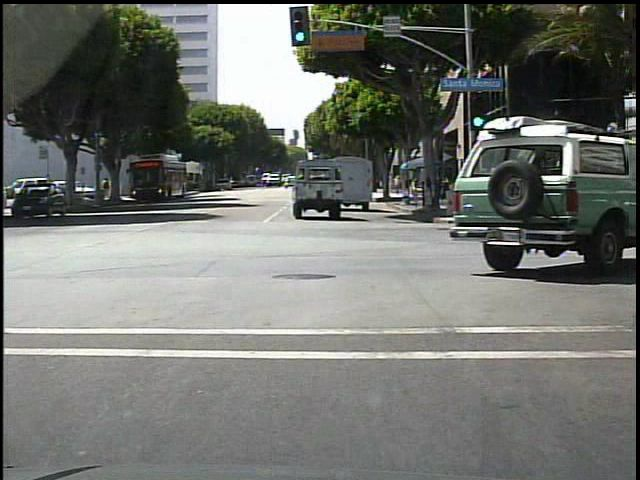person: (551, 158, 574, 228), (590, 164, 610, 224), (576, 167, 595, 223), (526, 155, 544, 214), (482, 164, 500, 219), (511, 161, 529, 215), (518, 165, 534, 218), (475, 164, 487, 216), (109, 175, 119, 201), (393, 171, 402, 194), (101, 176, 110, 199)
